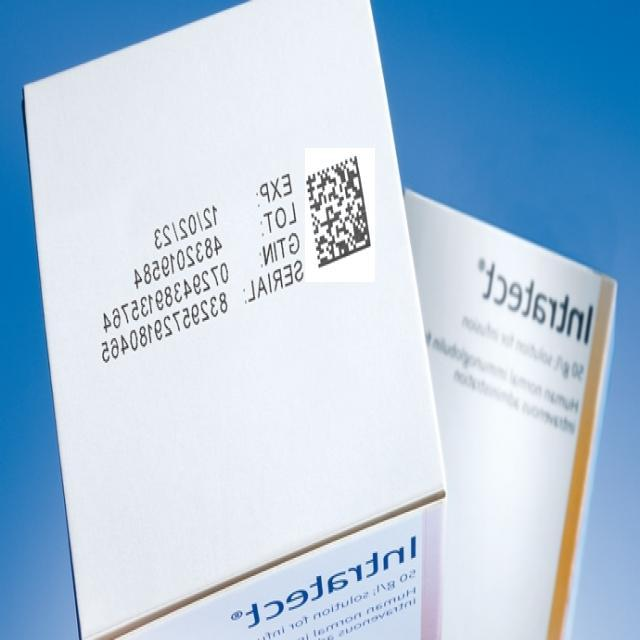Data-Matrix: (305, 148, 375, 282)
